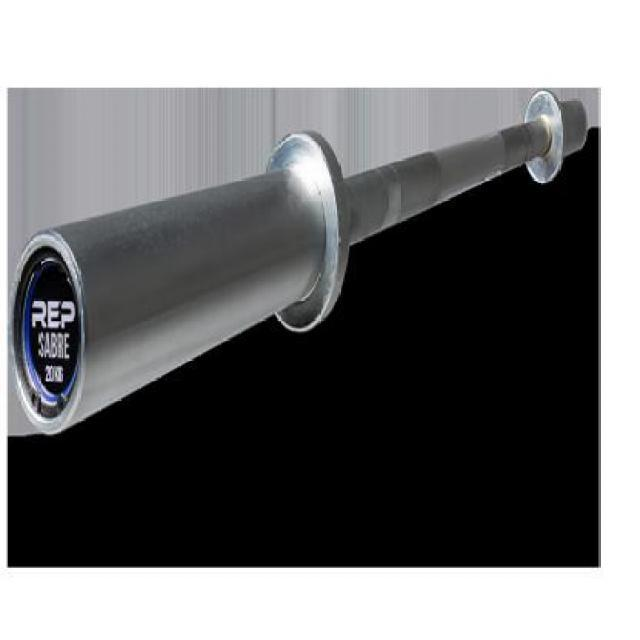Barbell: (1, 203, 97, 464)
